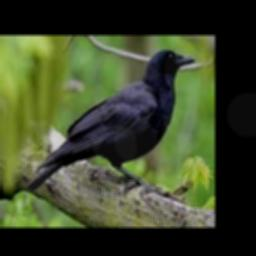Crow: (26, 49, 196, 192)
